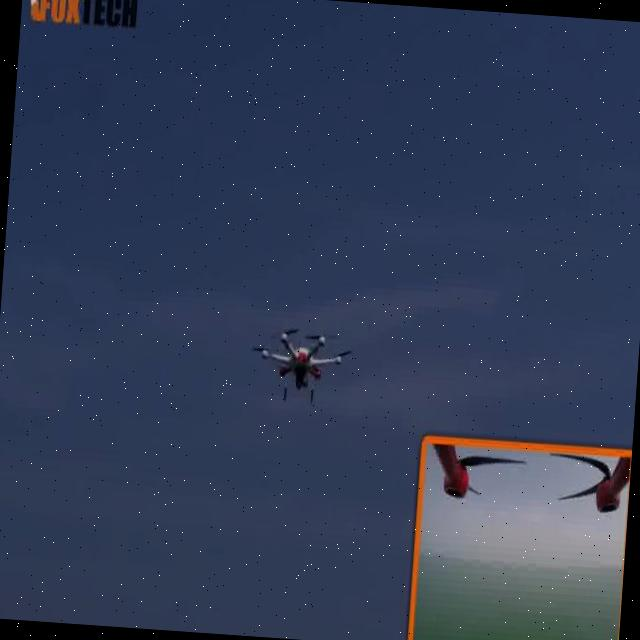drone: (243, 321, 355, 411)
